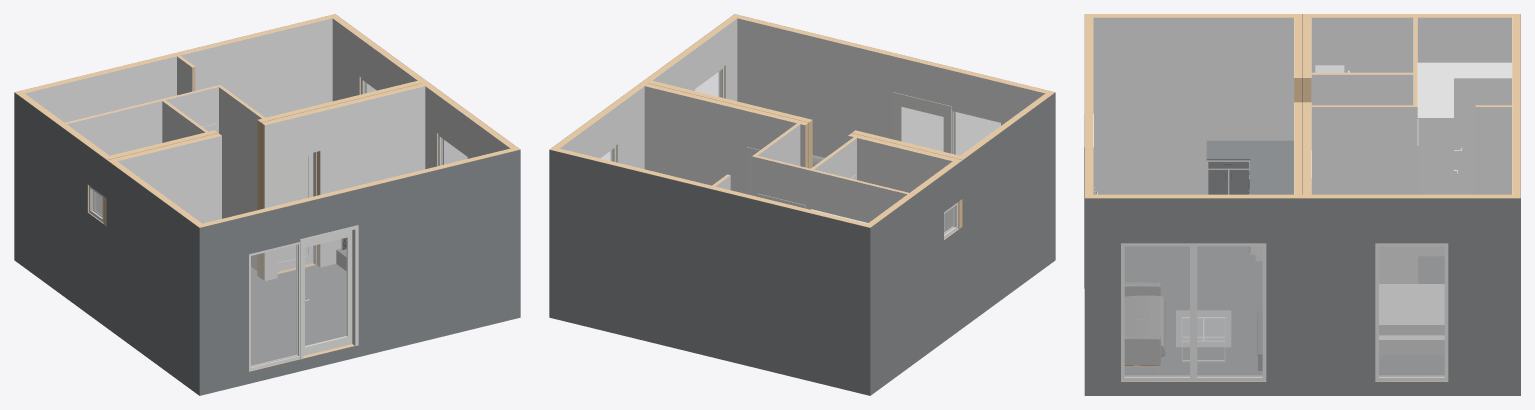
The model's file is Airija_Tomas_6,0x6,0.fbx.
3 renders of one model, left to right at view 1: azimuth 30°, elevation 25°; view 2: azimuth 150°, elevation 25°; view 3: azimuth 270°, elevation 25°, orthographic. The views are drawn at different scales.
Visible parts, largest first — view 1: IfcWall/Part:2316939, IfcWall/Part:2316936, IfcWall/Part:2316945, IfcWall/Part:2316955, IfcWall/Part:2316916, IfcDoor/Simple_vitree_-_03:1000x2100:2303266, IfcSlab/Floor:Sumustinis pilnas 145mm:2316166, IfcWindow/Aluprof_MB-86-SI_E_Alu_Window-1sash-FIX_ENG_R-0004, IfcWall/Part:2316941, IfcWall/Part:2316932, IfcWall/Part:2316952, IfcWall/Part:2316928 (+18 smaller); view 2: IfcWall/Part:2316956, IfcWall/Part:2316938, IfcWall/Part:2316936, IfcWall/Part:2316945, IfcWall/Part:2316947, IfcWall/Part:2316930, IfcWall/Part:2316952, IfcWall/Part:2316922, IfcWall/Part:2316951, IfcDoor/Simple_vitree_-_03:1000x2100:2303266, IfcWindow/Aluprof_MB-86-SI_E_Alu_Window-1sash-FIX_ENG_R-0004, IfcWall/Part:2316957 (+10 smaller); view 3: IfcWall/Part:2316953, IfcWall/Part:2316935, IfcWindow/Aluprof_MB-86-SI_E_Alu_Window-1sash-FIX_ENG_R-000. (×2), IfcSlab/Floor:Sumustinis pilnas 145mm:2316166, IfcWall/Part:2316933, IfcWindow/Aluprof_MB-86-SI_E_Alu_Window-1sash-FIX_ENG_R-000, IfcWall/Part:2316944, IfcFurnishingElement/Cabinet_-_Storage:1300 x 500 x 2100mm:2, IfcFurnishingElement/Cama - 3D - Genérico - Modelo Helsinki:, IfcFurnishingElement/Cabinet_-_Storage:1300 x 500 x 2100mm:, IfcFurnishingElement/Bolia - North Seater Sofa:2 1/2 Seater:, IfcFurnishingElement/Countertop:Countertop:2310674 (+16 smaller).
Part boxes in pixels (box(x1,y1,x2,y2)): IfcWall/Part:2316939: box(199, 149, 520, 395); IfcWall/Part:2316936: box(107, 160, 199, 395); IfcWall/Part:2316945: box(14, 92, 106, 327); IfcWall/Part:2316955: box(24, 18, 332, 122); IfcWall/Part:2316916: box(320, 86, 425, 267); IfcDoor/Simple_vitree_-_03:1000x2100:2303266: box(296, 225, 358, 359); IfcSlab/Floor:Sumustinis pilnas 145mm:2316166: box(251, 264, 346, 365); IfcWindow/Aluprof_MB-86-SI_E_Alu_Window-1sash-FIX_ENG_R-0004: box(249, 242, 299, 371); IfcWall/Part:2316941: box(117, 135, 221, 223); IfcWall/Part:2316932: box(219, 87, 261, 270); IfcWall/Part:2316952: box(332, 18, 417, 101); IfcWall/Part:2316928: box(66, 101, 162, 155); IfcWall/Part:2316956: box(549, 149, 870, 395); IfcWall/Part:2316938: box(737, 18, 1045, 157); IfcWall/Part:2316936: box(963, 92, 1055, 327); IfcWall/Part:2316945: box(870, 160, 962, 395); IfcWall/Part:2316947: box(644, 86, 805, 194); IfcWall/Part:2316930: box(752, 156, 907, 222); IfcWall/Part:2316952: box(559, 86, 644, 169); IfcWall/Part:2316922: box(848, 135, 952, 231); IfcWall/Part:2316951: box(652, 18, 737, 101); IfcDoor/Simple_vitree_-_03:1000x2100:2303266: box(893, 92, 955, 154); IfcWindow/Aluprof_MB-86-SI_E_Alu_Window-1sash-FIX_ENG_R-0004: box(952, 109, 1002, 155); IfcWall/Part:2316957: box(550, 147, 872, 227); IfcWall/Part:2316953: box(1084, 198, 1520, 395); IfcWall/Part:2316935: box(1093, 17, 1293, 194); IfcWindow/Aluprof_MB-86-SI_E_Alu_Window-1sash-FIX_ENG_R-000. (×2): box(1192, 243, 1448, 381); IfcSlab/Floor:Sumustinis pilnas 145mm:2316166: box(1124, 246, 1444, 375); IfcWall/Part:2316933: box(1311, 107, 1417, 283); IfcWindow/Aluprof_MB-86-SI_E_Alu_Window-1sash-FIX_ENG_R-000: box(1121, 243, 1194, 381); IfcWall/Part:2316944: box(1311, 17, 1511, 72); IfcFurnishingElement/Cabinet_-_Storage:1300 x 500 x 2100mm:2: box(1417, 62, 1511, 194); IfcFurnishingElement/Cama - 3D - Genérico - Modelo Helsinki:: box(1379, 284, 1444, 358); IfcFurnishingElement/Cabinet_-_Storage:1300 x 500 x 2100mm:: box(1417, 78, 1457, 256); IfcFurnishingElement/Bolia - North Seater Sofa:2 1/2 Seater:: box(1124, 282, 1165, 375); IfcFurnishingElement/Countertop:Countertop:2310674: box(1206, 140, 1293, 194).
Size of the model in its own units: 600 by 300 by 601.
